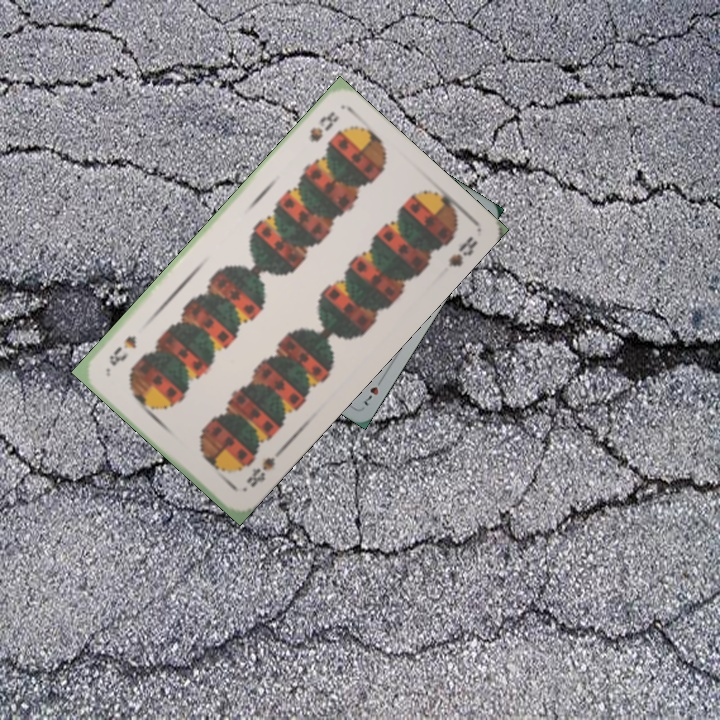H7: (359, 373, 386, 409)
S8: (242, 446, 284, 490), (305, 107, 342, 145)
